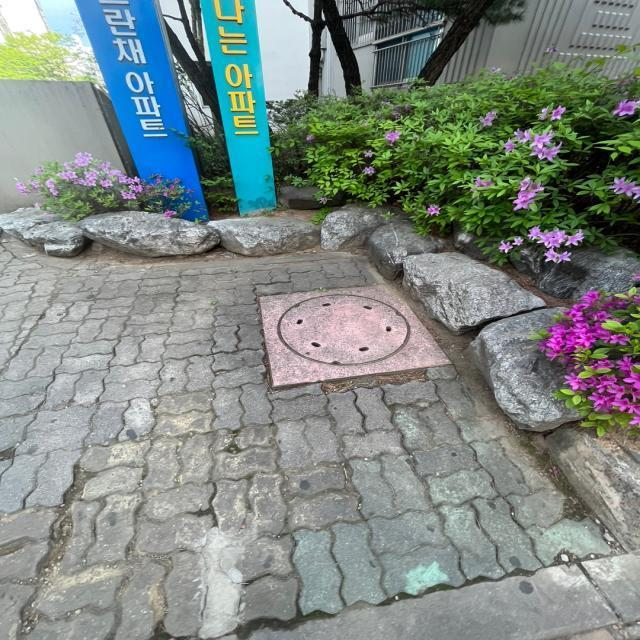manhole: (259, 286, 449, 387)
